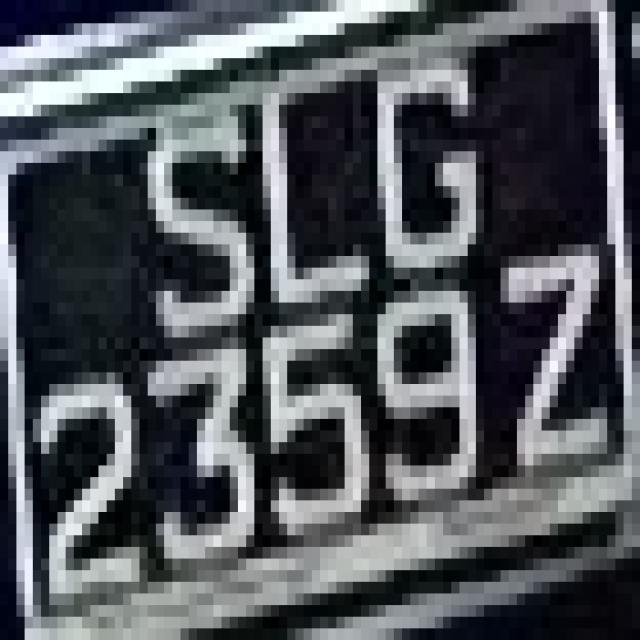2: (16, 314, 148, 617)
3: (123, 326, 254, 582)
5: (262, 291, 394, 535)
9: (361, 221, 509, 500)
G: (353, 23, 517, 280)
L: (230, 58, 377, 338)
S: (123, 70, 246, 372)
Z: (484, 209, 607, 512)
